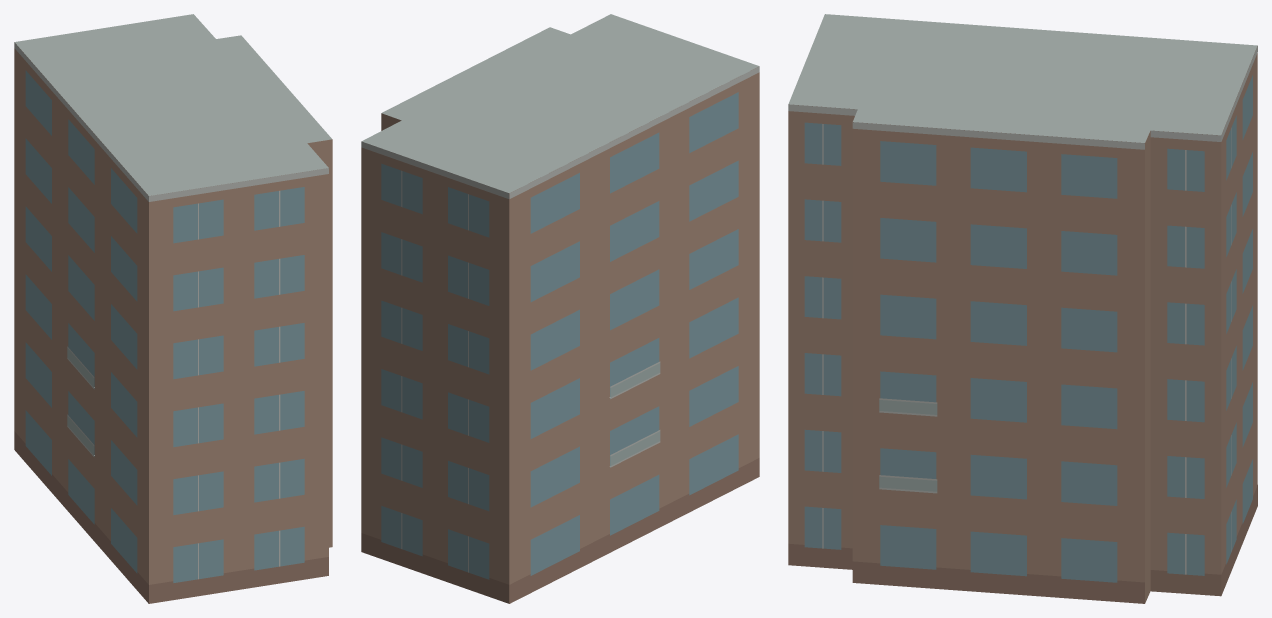
The model's file is survey-upis-32678268.glb.
3 renders of one model, left to right at view 1: azimuth 30°, elevation 25°; view 2: azimuth 150°, elevation 25°; view 3: azimuth 270°, elevation 25°, orthographic. The views are drawn at different scales.
Visible parts, largest first — view 1: survey-upis-32678268.tmp; view 2: survey-upis-32678268.tmp; view 3: survey-upis-32678268.tmp.
Part boxes in pixels (x1=…): survey-upis-32678268.tmp: x1=14, y1=14, x2=332, y2=603; survey-upis-32678268.tmp: x1=361, y1=14, x2=759, y2=603; survey-upis-32678268.tmp: x1=788, y1=14, x2=1257, y2=603.
Size of the model in its own units: 10.04 by 16.7 by 15.43.
